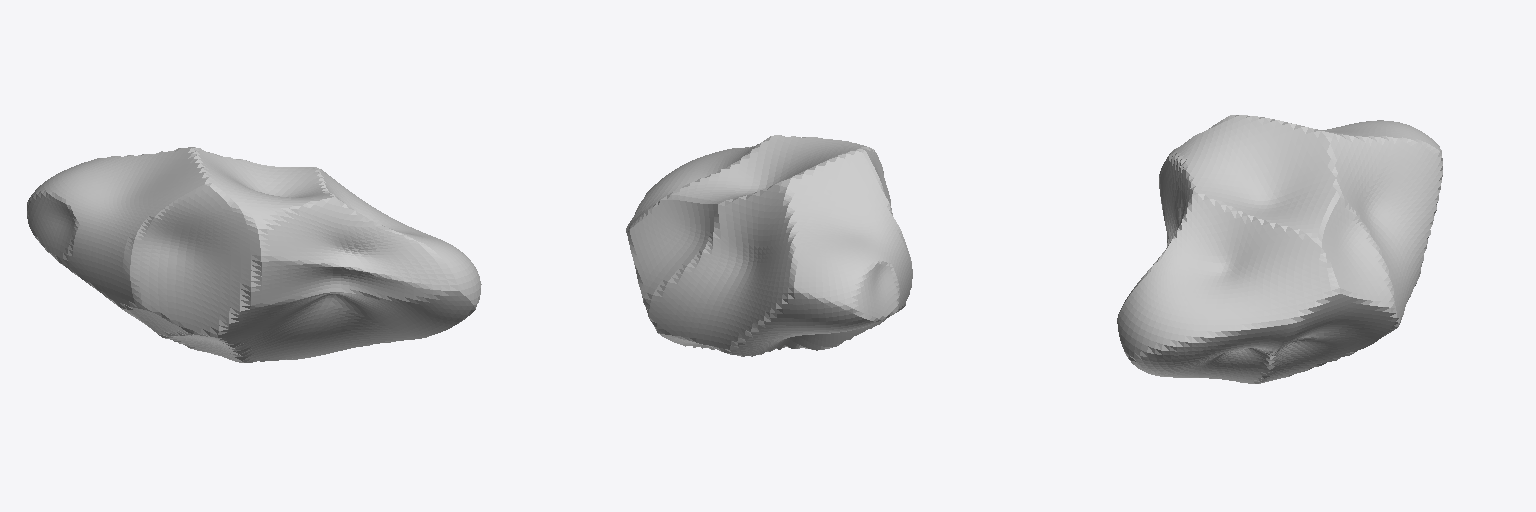
Rendered from rock.obj.
The picture shows the model from 3 angles: view 1: azimuth 30°, elevation 25°; view 2: azimuth 150°, elevation 25°; view 3: azimuth 270°, elevation 25°; orthographic projection.
Visible parts, largest first — view 1: Cube; view 2: Cube; view 3: Cube.
Boxes of the visible parts, <box> form: Cube: <box>27,147,481,362</box>; Cube: <box>626,135,912,356</box>; Cube: <box>1117,115,1442,383</box>.
Bounding box in the file's own units: 2.94 × 1.86 × 2.53.